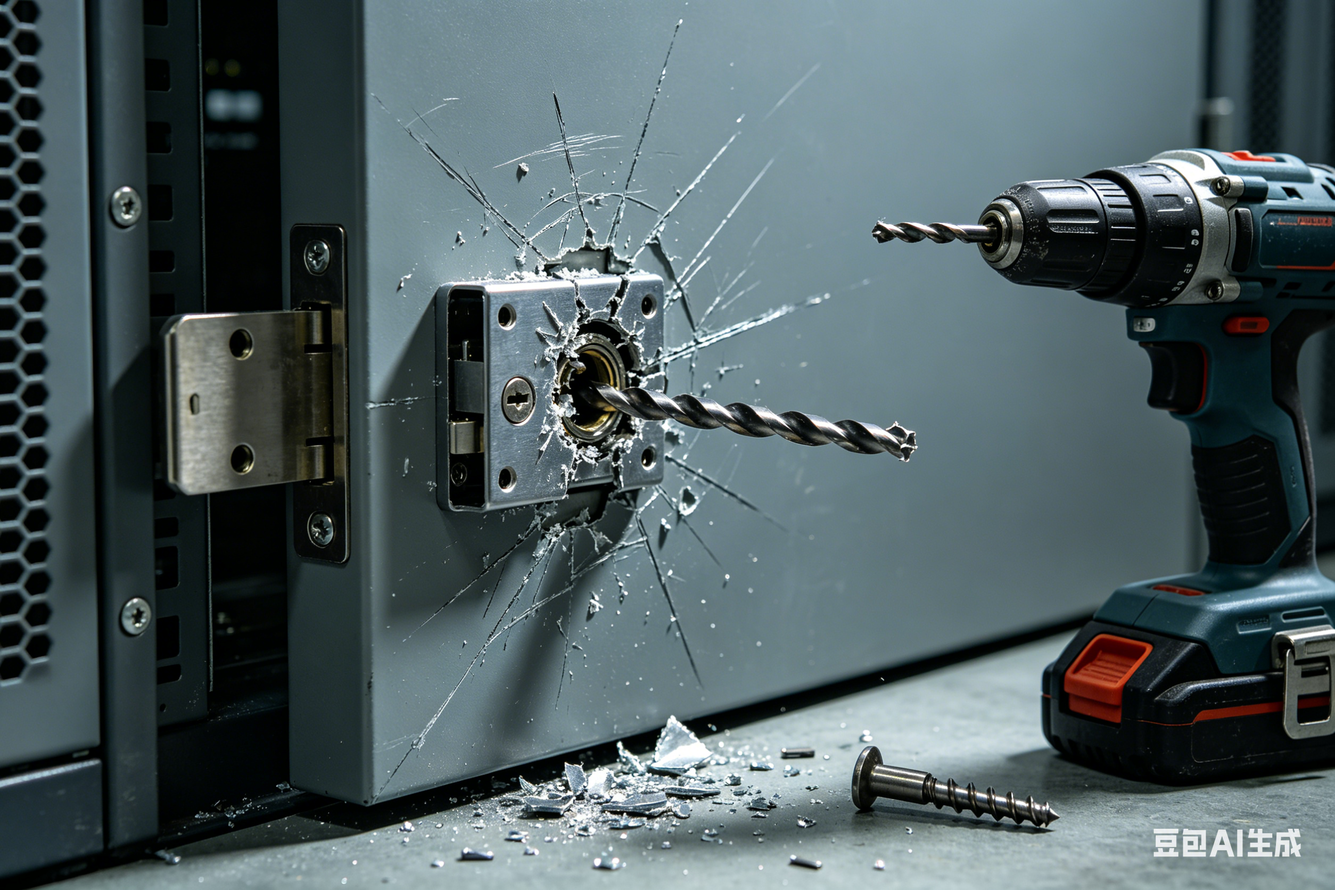BadLock: (478, 291, 669, 498)
